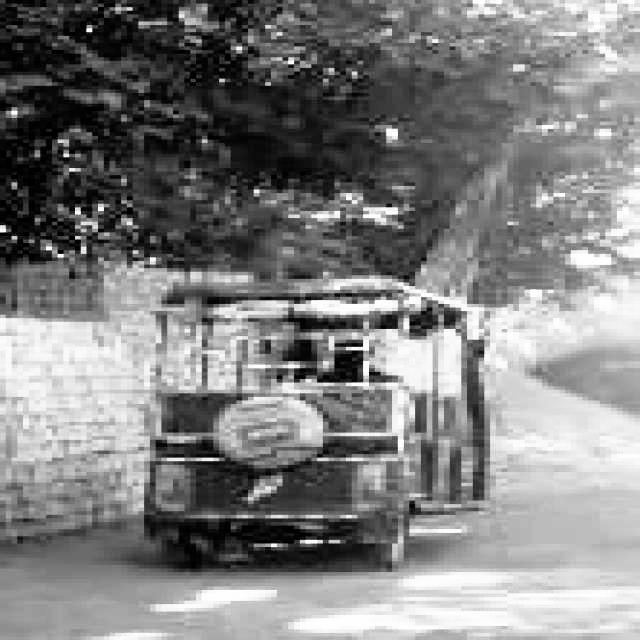Toto: (140, 275, 498, 590)
